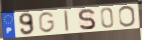0: (100, 7, 115, 29)
9: (17, 12, 36, 36)
G: (38, 11, 56, 34)
I: (64, 9, 71, 32)
O: (118, 5, 137, 28)
S: (77, 8, 97, 31)
